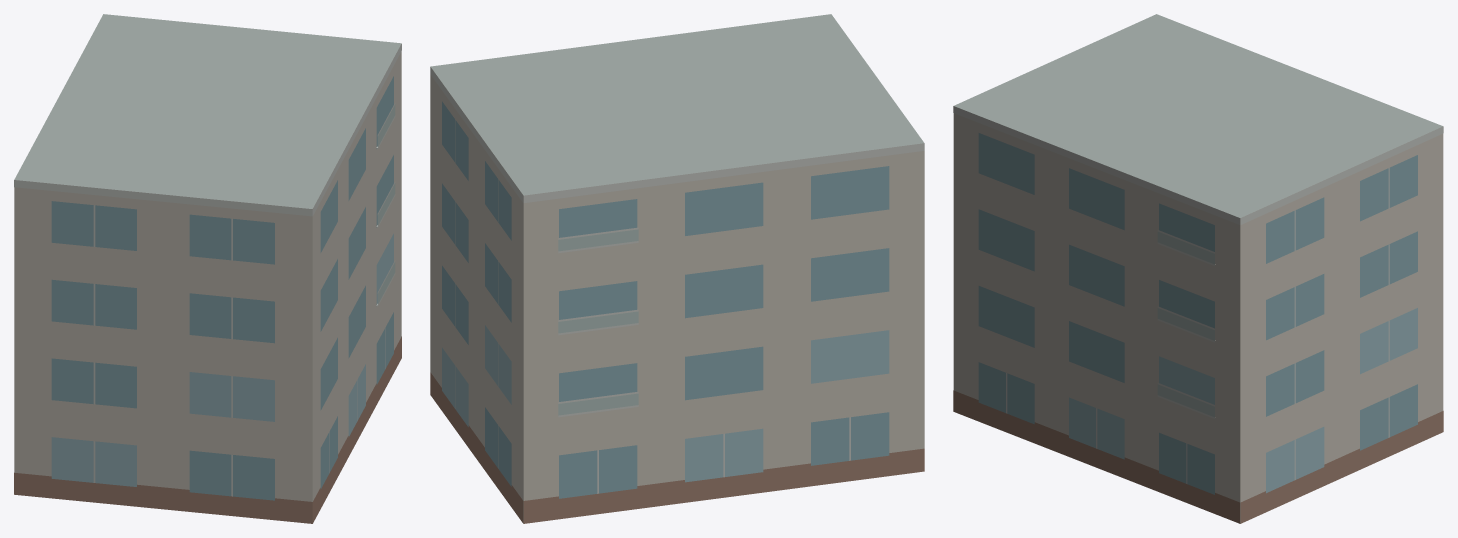
The model's file is survey-upis-32725968.glb.
The picture shows the model from 3 angles, left to right: view 1: azimuth 30°, elevation 25°; view 2: azimuth 150°, elevation 25°; view 3: azimuth 270°, elevation 25°; orthographic projection. The views are drawn at different scales.
Parts seen in each view (by area): view 1: survey-upis-32725968.tmp; view 2: survey-upis-32725968.tmp; view 3: survey-upis-32725968.tmp.
Boxes of the visible parts, x1,y1,x2,y2 form: survey-upis-32725968.tmp: (14, 14, 401, 523); survey-upis-32725968.tmp: (430, 14, 924, 523); survey-upis-32725968.tmp: (953, 14, 1443, 523).
Bounding box in the file's own units: 15.05 × 10.5 × 15.26.
